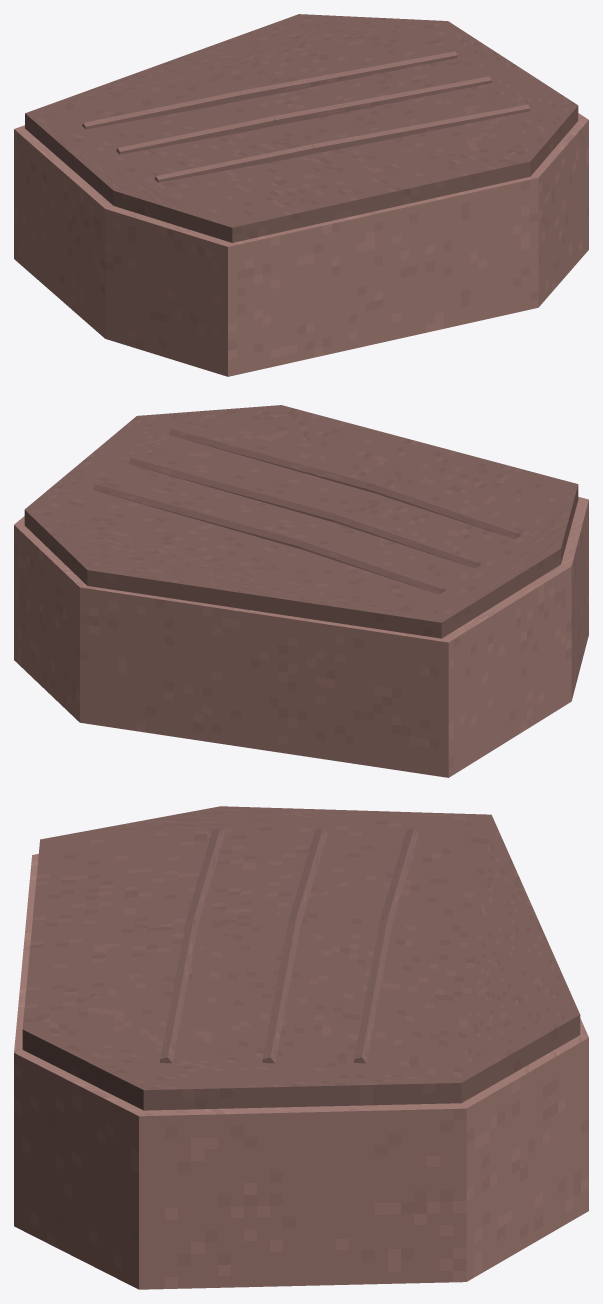
Rendered from meat_pickled.glb.
The picture shows the model from 3 angles, top to bottom: view 1: azimuth 30°, elevation 25°; view 2: azimuth 150°, elevation 25°; view 3: azimuth 270°, elevation 25°; orthographic projection. The views are drawn at different scales.
Parts seen in each view (by area): view 1: block_cut meat surface, block_outer glaze or rind, block_rind grain 1 (×3), block_rind grain 0 (×3); view 2: block_cut meat surface, block_outer glaze or rind, block_rind grain 1 (×3), block_rind grain 0 (×3); view 3: block_outer glaze or rind, block_cut meat surface, block_rind grain 1 (×3), block_rind grain 0 (×3).
Part boxes in pixels (left/top/right/bottom): block_cut meat surface: left=14, top=113, right=588, bottom=376; block_outer glaze or rind: left=25, top=14, right=578, bottom=242; block_rind grain 1 (×3): left=239, top=51, right=530, bottom=153; block_rind grain 0 (×3): left=82, top=91, right=314, bottom=182; block_cut meat surface: left=14, top=497, right=588, bottom=777; block_outer glaze or rind: left=24, top=405, right=578, bottom=638; block_rind grain 1 (×3): left=93, top=428, right=378, bottom=548; block_rind grain 0 (×3): left=298, top=484, right=520, bottom=594; block_outer glaze or rind: left=22, top=806, right=580, bottom=1110; block_cut meat surface: left=14, top=854, right=588, bottom=1289; block_rind grain 1 (×3): left=160, top=918, right=392, bottom=1063; block_rind grain 0 (×3): left=186, top=828, right=418, bottom=923.
Size of the model in its own units: 0.1197 by 0.0386 by 0.0983.
Materials: 1 (1 with a texture image).
